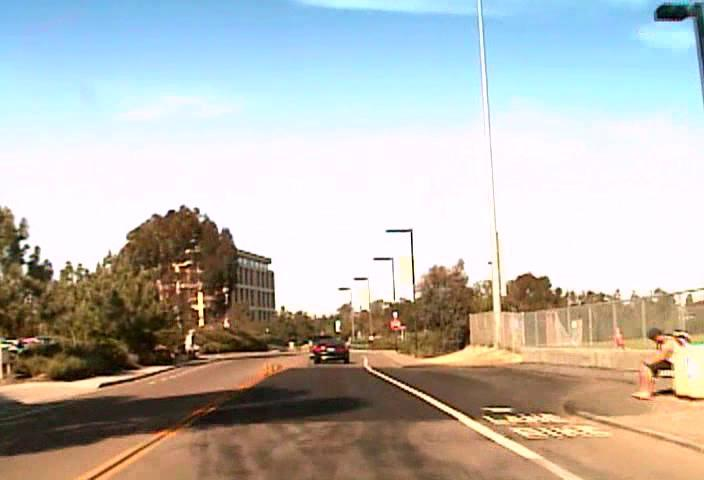stop: (390, 318, 401, 328)
